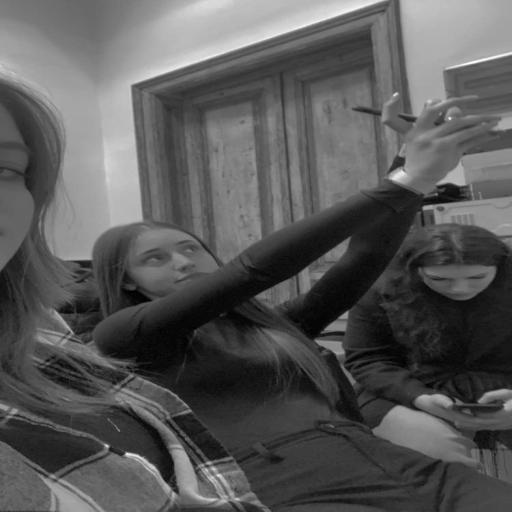masa: (110, 221, 222, 287)
